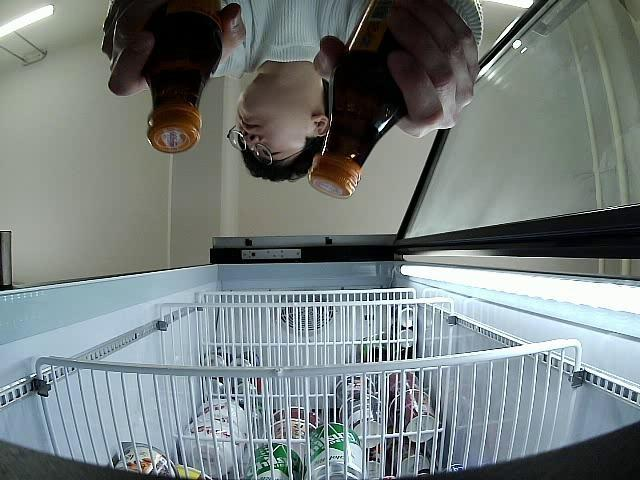17_vita500: (308, 0, 408, 199), (140, 0, 225, 154)
